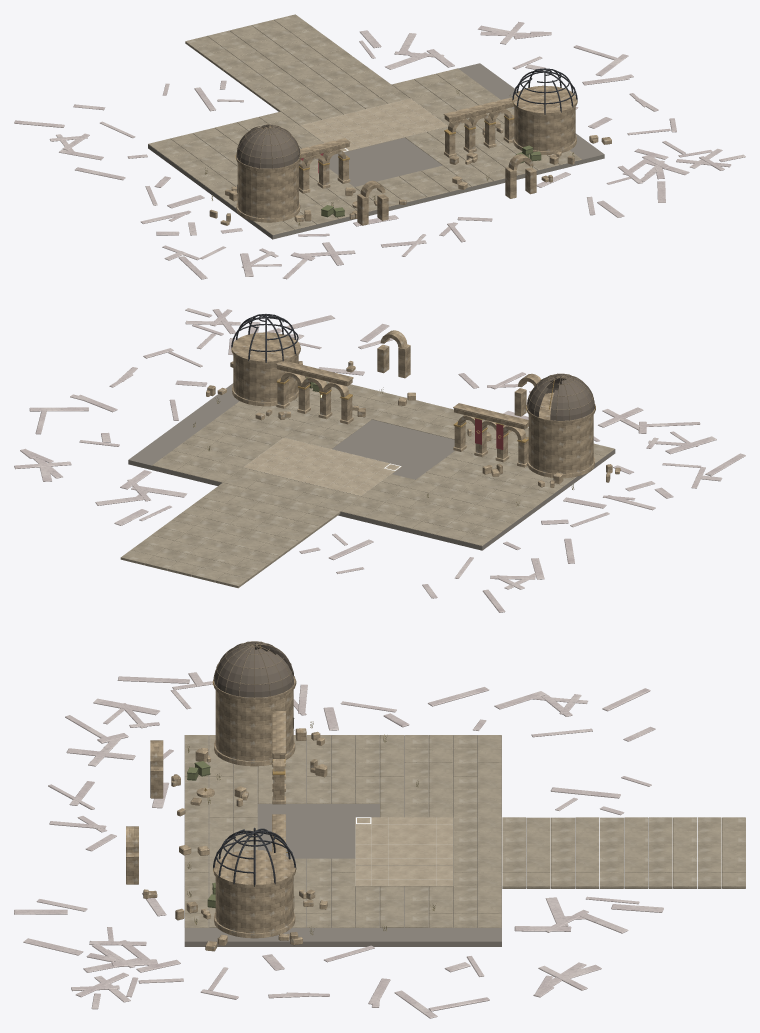
The model's file is courtyard_observatory.glb.
3 views of the same model, one above another, from view 1: azimuth 30°, elevation 25°; view 2: azimuth 150°, elevation 25°; view 3: azimuth 270°, elevation 25° (orthographic). The views are drawn at different scales.
Parts seen in each view (by area): view 1: Terrace_Slabs, Ruin_Stone, Salt_Ridges, Ground_Grout, Pad_Base, Ruin_DomeIntact, Ruin_DomeRibs, Ruin_DomeSeams, Dress_Crates; view 2: Terrace_Slabs, Ruin_Stone, Salt_Ridges, Ground_Grout, Pad_Base, Ruin_DomeIntact, Ruin_DomeRibs, Ruin_DomeSeams, Pad_Grid; view 3: Terrace_Slabs, Ruin_Stone, Salt_Ridges, Ground_Grout, Pad_Base, Ruin_DomeIntact, Ruin_DomeRibs, Ruin_DomeSeams, Pad_Grid.
Part boxes in pixels (x1=…): Terrace_Slabs: x1=148, y1=14, x2=581, y2=235; Ruin_Stone: x1=209, y1=85, x2=611, y2=225; Salt_Ridges: x1=14, y1=22, x2=745, y2=279; Ground_Grout: x1=148, y1=63, x2=604, y2=239; Pad_Base: x1=300, y1=98, x2=448, y2=152; Ruin_DomeIntact: x1=237, y1=125, x2=299, y2=168; Ruin_DomeRibs: x1=512, y1=68, x2=577, y2=114; Ruin_DomeSeams: x1=236, y1=124, x2=300, y2=168; Dress_Crates: x1=321, y1=145, x2=541, y2=217; Terrace_Slabs: x1=120, y1=381, x2=614, y2=588; Ruin_Stone: x1=206, y1=330, x2=620, y2=487; Salt_Ridges: x1=14, y1=308, x2=745, y2=612; Ground_Grout: x1=128, y1=383, x2=615, y2=550; Pad_Base: x1=243, y1=437, x2=401, y2=496; Ruin_DomeIntact: x1=527, y1=374, x2=594, y2=420; Ruin_DomeRibs: x1=231, y1=314, x2=298, y2=362; Ruin_DomeSeams: x1=527, y1=373, x2=595, y2=420; Pad_Grid: x1=243, y1=438, x2=401, y2=496; Terrace_Slabs: x1=184, y1=735, x2=745, y2=927; Ruin_Stone: x1=126, y1=676, x2=327, y2=951; Salt_Ridges: x1=14, y1=672, x2=663, y2=1018; Ground_Grout: x1=184, y1=735, x2=501, y2=946; Pad_Base: x1=355, y1=817, x2=453, y2=886; Ruin_DomeIntact: x1=214, y1=642, x2=294, y2=697; Ruin_DomeRibs: x1=213, y1=827, x2=296, y2=886; Ruin_DomeSeams: x1=213, y1=641, x2=292, y2=697; Pad_Grid: x1=355, y1=817, x2=453, y2=885.
Size of what is drawn, in the model's own units: 50.23 by 7.46 by 44.97.
18 materials, 4 textured.
